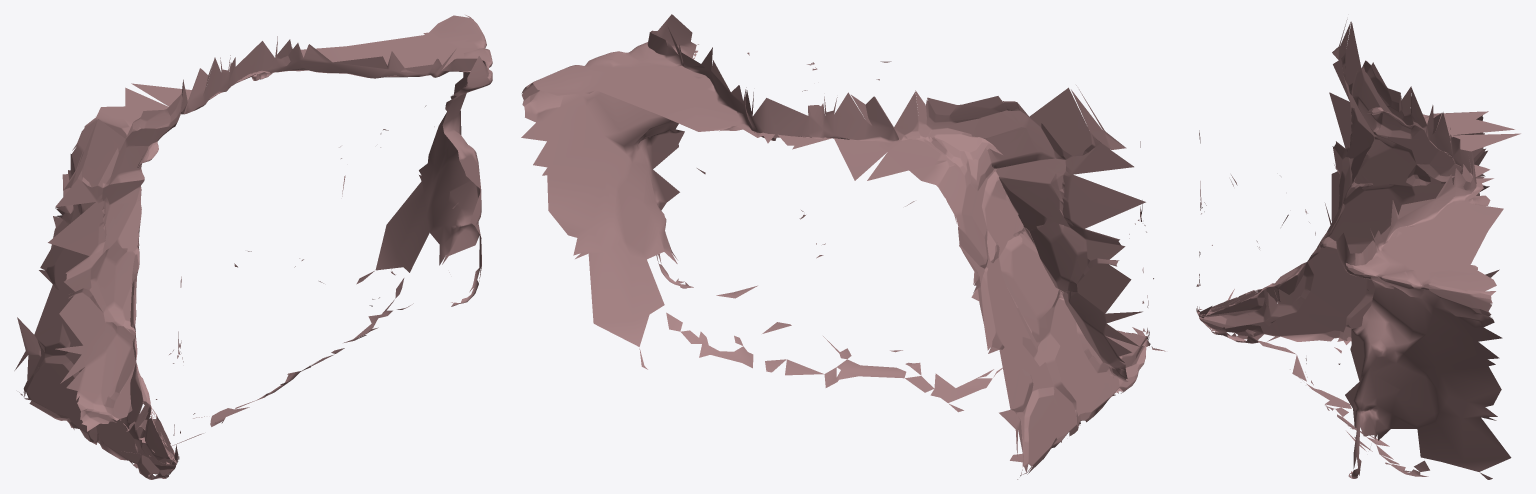
Rendered from canyon.fbx_PolyShape__3__013LODs.fbx.
The picture shows the model from 3 angles, left to right: view 1: azimuth 30°, elevation 25°; view 2: azimuth 150°, elevation 25°; view 3: azimuth 270°, elevation 25°; orthographic projection. The views are drawn at different scales.
Parts seen in each view (by area): view 1: PolyShape (3).013_LOD0; view 2: PolyShape (3).013_LOD0; view 3: PolyShape (3).013_LOD0.
Part boxes in pixels (box(x1,y1,x2,y2)): PolyShape (3).013_LOD0: box(14, 15, 492, 479); PolyShape (3).013_LOD0: box(521, 14, 1165, 479); PolyShape (3).013_LOD0: box(1196, 19, 1520, 479).
Size of what is drawn, in the model's own units: 6880 by 4306 by 3793.
